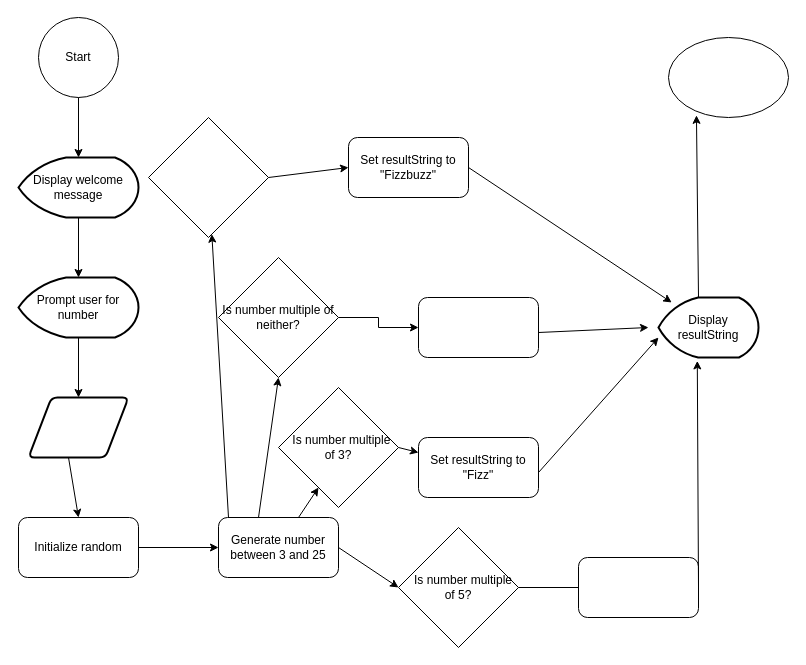
The diagram is 806 pixels wide and 665 high, and some of its shapes have lost their labels. The shapes that lost their labels are listed below. From the top down, each one's box as (x1, y1, x2, y2) in pixels, then its label:
(668, 36, 788, 118): End
(148, 116, 268, 238): Is number multiple of both?
(418, 296, 538, 358): Set resultString to input number
(27, 396, 129, 458): Get input
(578, 556, 698, 618): Set resultString to "Buzz"
